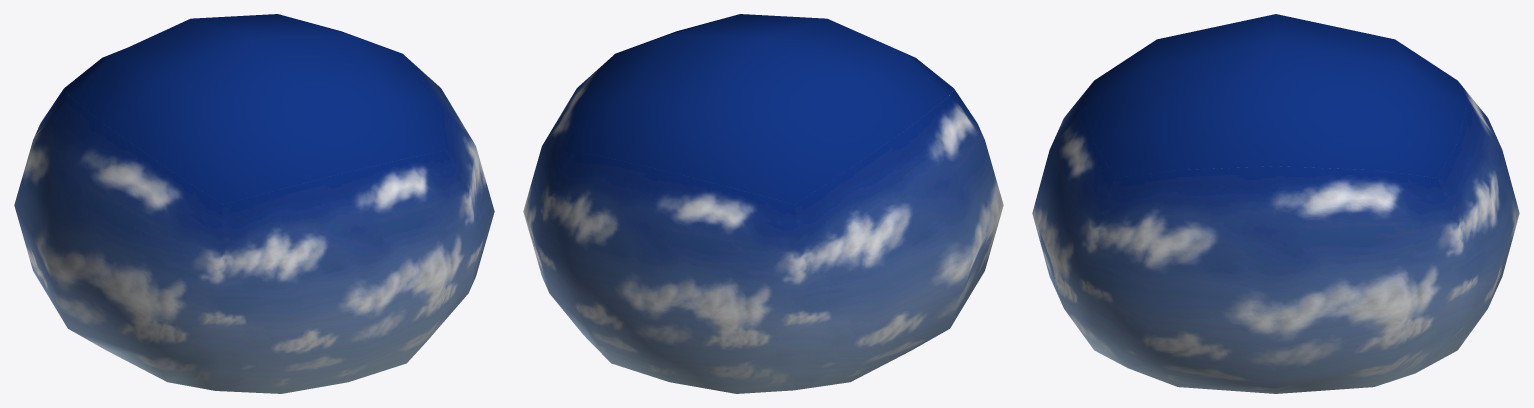
Rendered from MIRKWOOD_TREECANOPY500.fbx.
3 renders of one model, left to right at view 1: azimuth 30°, elevation 25°; view 2: azimuth 150°, elevation 25°; view 3: azimuth 270°, elevation 25°, orthographic.
Visible parts, largest first — view 1: MIRKWOOD_TREECANOPY500; view 2: MIRKWOOD_TREECANOPY500; view 3: MIRKWOOD_TREECANOPY500.
Part boxes in pixels (<box>): MIRKWOOD_TREECANOPY500: <box>14,14,494,393</box>; MIRKWOOD_TREECANOPY500: <box>523,14,1003,393</box>; MIRKWOOD_TREECANOPY500: <box>1032,14,1519,393</box>.
Size of the model in its own units: 3379758 by 2131945 by 3379758.
Materials: 2 (2 with a texture image).
